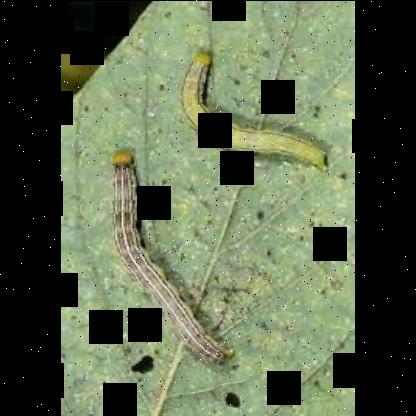oruga: (104, 143, 240, 375), (180, 49, 328, 168)
